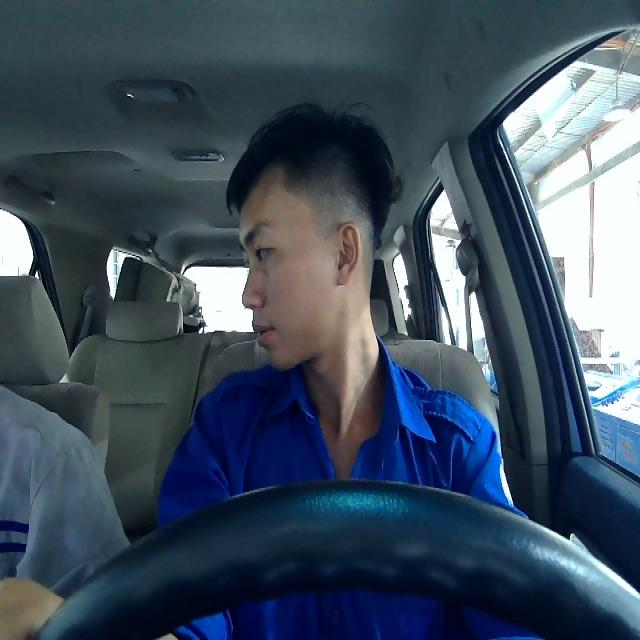seeing_left: (236, 156, 372, 372)
